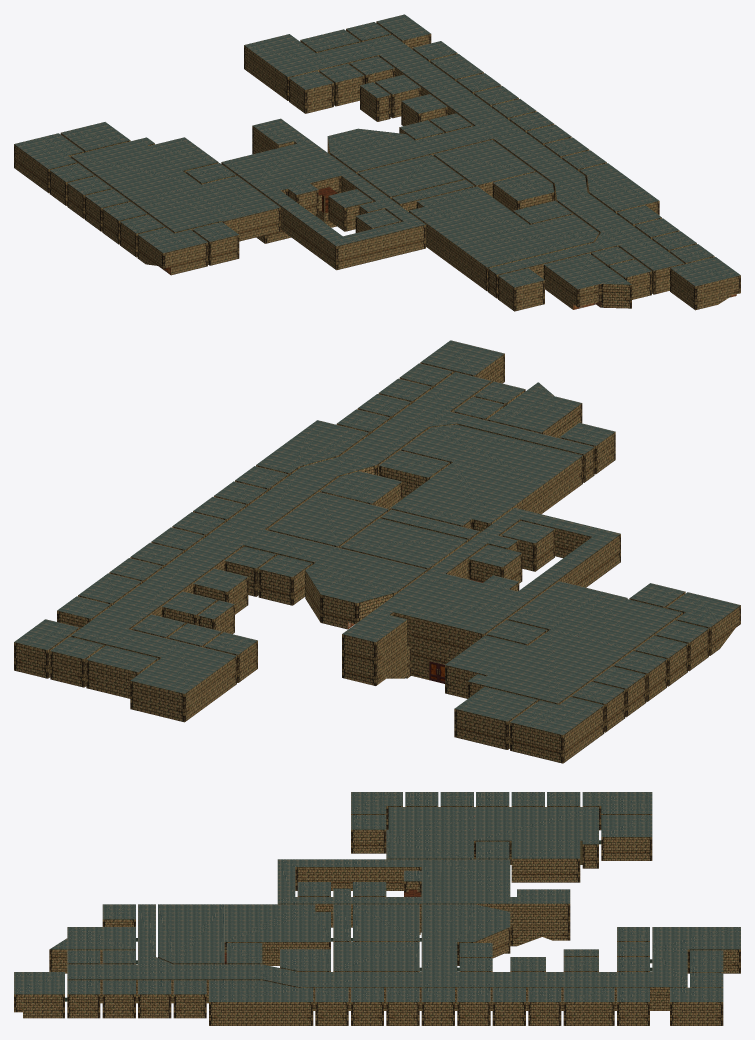
File: znwc.blv.obj
3 renders of one model, top to bottom at view 1: azimuth 30°, elevation 25°; view 2: azimuth 150°, elevation 25°; view 3: azimuth 270°, elevation 25°, orthographic. The views are drawn at different scales.
Visible parts, largest first — view 1: Room7, Room46, Room48, Room54, Room10, Room13, Room28, Room38, Room1, Room49, Room5, Room16 (+52 smaller); view 2: Room7, Room46, Room54, Room48, Room1, Room38, Room10, Room58, Room28, Room5, Room2, Room59 (+51 smaller); view 3: Room7, Room54, Room46, Room48, Room21, Room10, Room1, Room28, Room47, Room38, Room5, Room2 (+51 smaller).
Part boxes in pixels (x1=…): Room7: x1=409, y1=186, x2=599, y2=291; Room46: x1=221, y1=118, x2=353, y2=243; Room48: x1=132, y1=176, x2=280, y2=241; Room54: x1=70, y1=137, x2=218, y2=202; Room10: x1=557, y1=192, x2=684, y2=294; Room13: x1=543, y1=253, x2=631, y2=309; Room28: x1=379, y1=47, x2=505, y2=126; Room38: x1=244, y1=34, x2=333, y2=100; Room1: x1=327, y1=128, x2=432, y2=173; Room49: x1=336, y1=221, x2=425, y2=270; Room5: x1=433, y1=140, x2=535, y2=196; Room16: x1=670, y1=257, x2=740, y2=310; Room7: x1=379, y1=424, x2=582, y2=532; Room46: x1=342, y1=570, x2=535, y2=685; Room54: x1=445, y1=629, x2=632, y2=704; Room48: x1=507, y1=581, x2=682, y2=650; Room1: x1=305, y1=547, x2=427, y2=629; Room38: x1=130, y1=642, x2=236, y2=722; Room10: x1=341, y1=372, x2=491, y2=475; Room58: x1=510, y1=697, x2=604, y2=763; Room28: x1=92, y1=536, x2=243, y2=629; Room5: x1=268, y1=492, x2=388, y2=547; Room2: x1=340, y1=518, x2=467, y2=571; Room59: x1=454, y1=686, x2=537, y2=749; Room7: x1=158, y1=904, x2=333, y2=965; Room54: x1=474, y1=807, x2=598, y2=882; Room46: x1=421, y1=859, x2=570, y2=953; Room48: x1=386, y1=807, x2=473, y2=859; Room21: x1=209, y1=980, x2=313, y2=1025; Room10: x1=67, y1=957, x2=262, y2=1003; Room1: x1=419, y1=904, x2=510, y2=965; Room28: x1=457, y1=972, x2=652, y2=1010; Room47: x1=278, y1=859, x2=421, y2=890; Room38: x1=650, y1=927, x2=740, y2=973; Room5: x1=333, y1=942, x2=419, y2=971; Room2: x1=351, y1=904, x2=419, y2=941.
Bounding box in the file's own units: 7168 × 800 × 10496.
35 materials, 35 textured.
